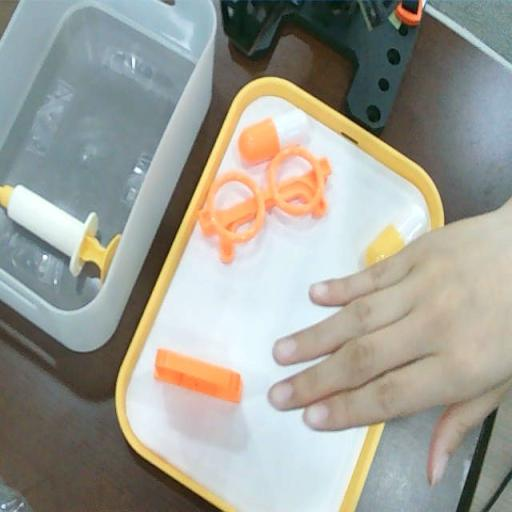hospital: (263, 187, 511, 490)
